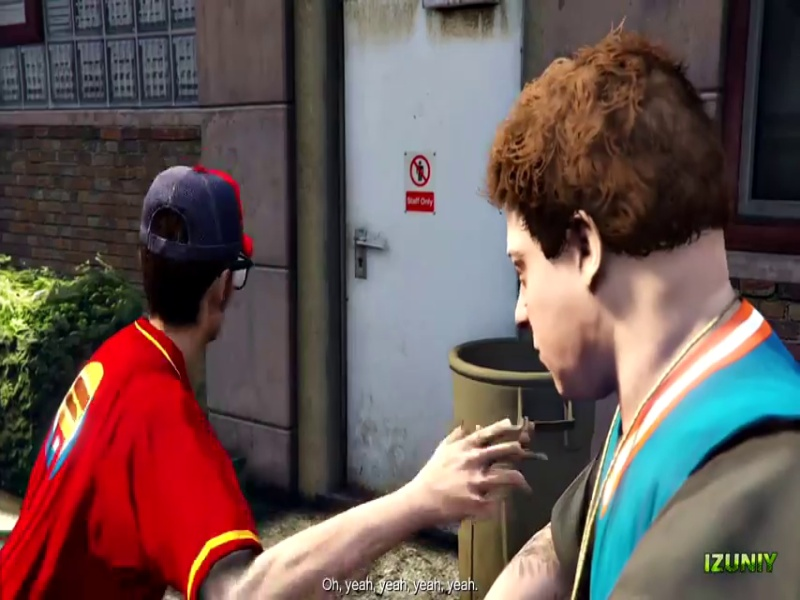human: (14, 168, 264, 598)
